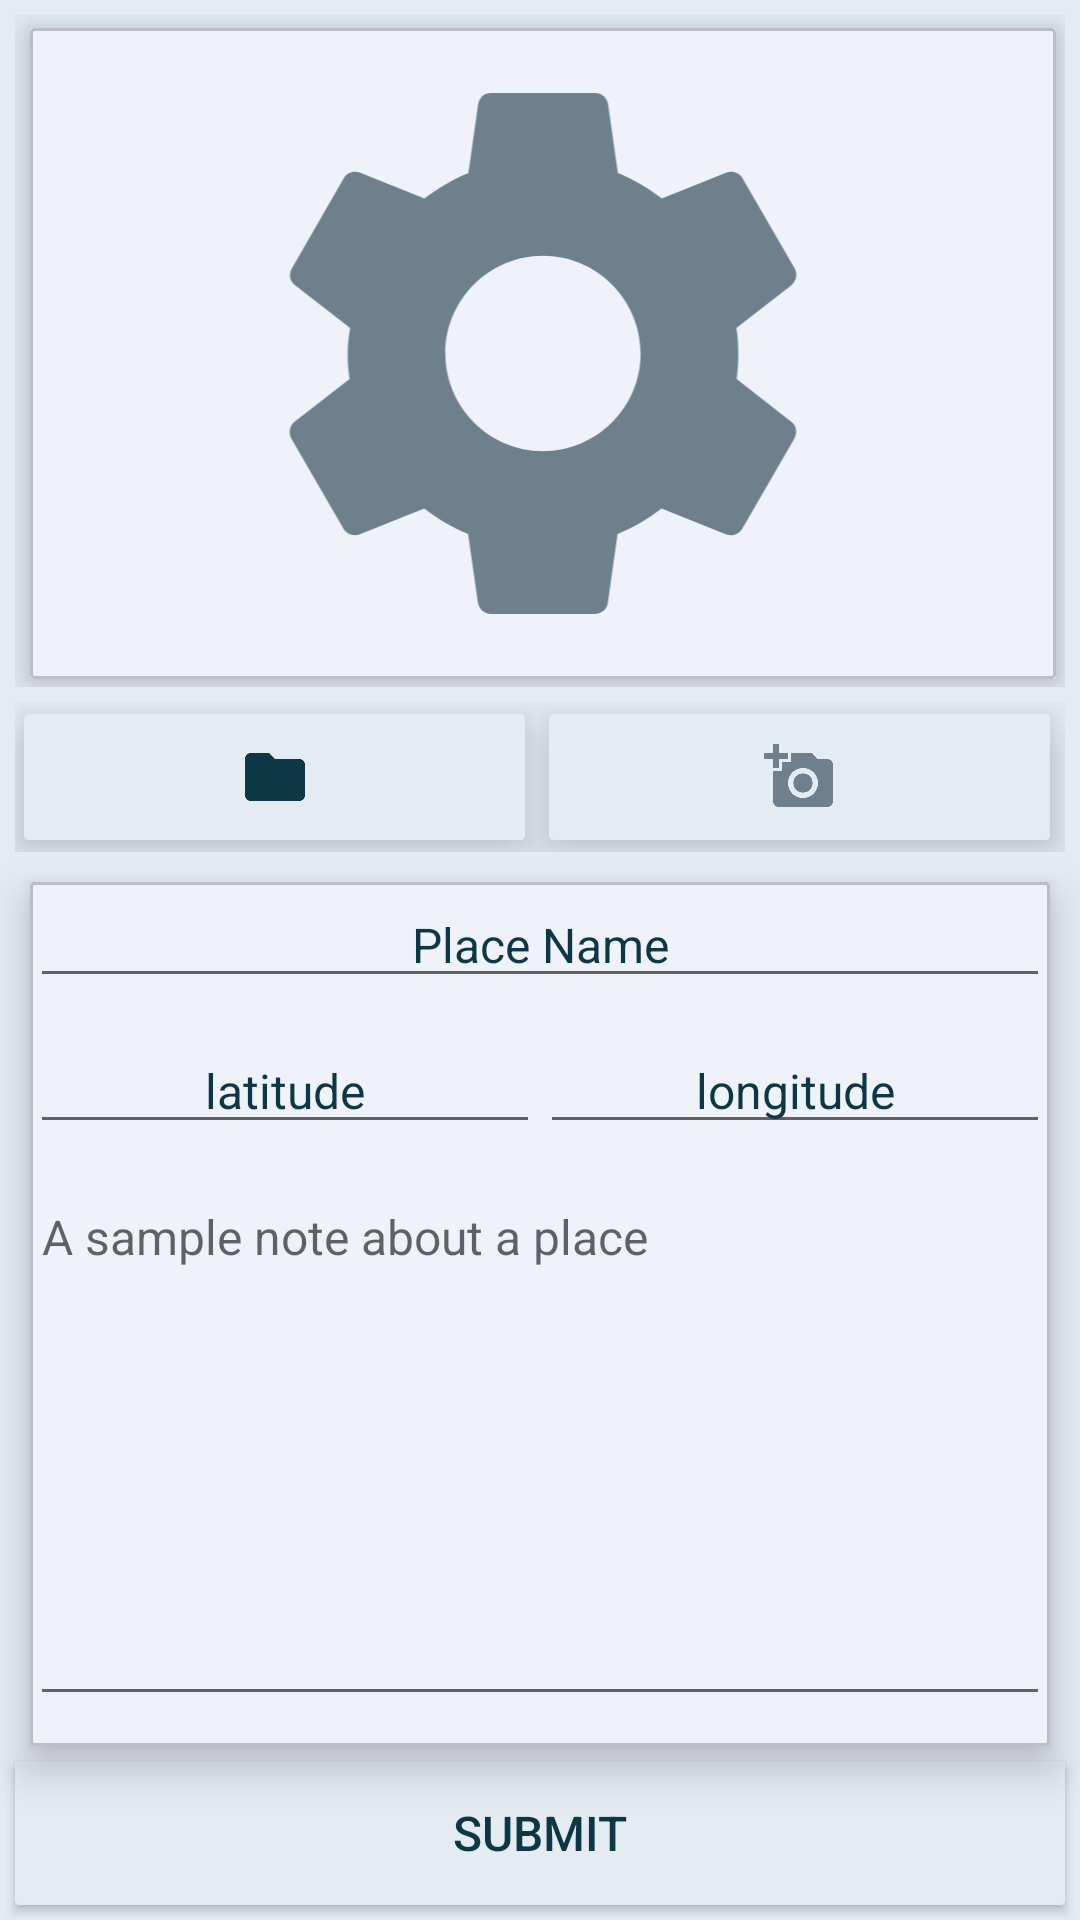

Screen size 1080*1920. Icon name, then its box in pixels as (x1, y1, x2, y2):
add photo: (764, 744, 833, 807)
